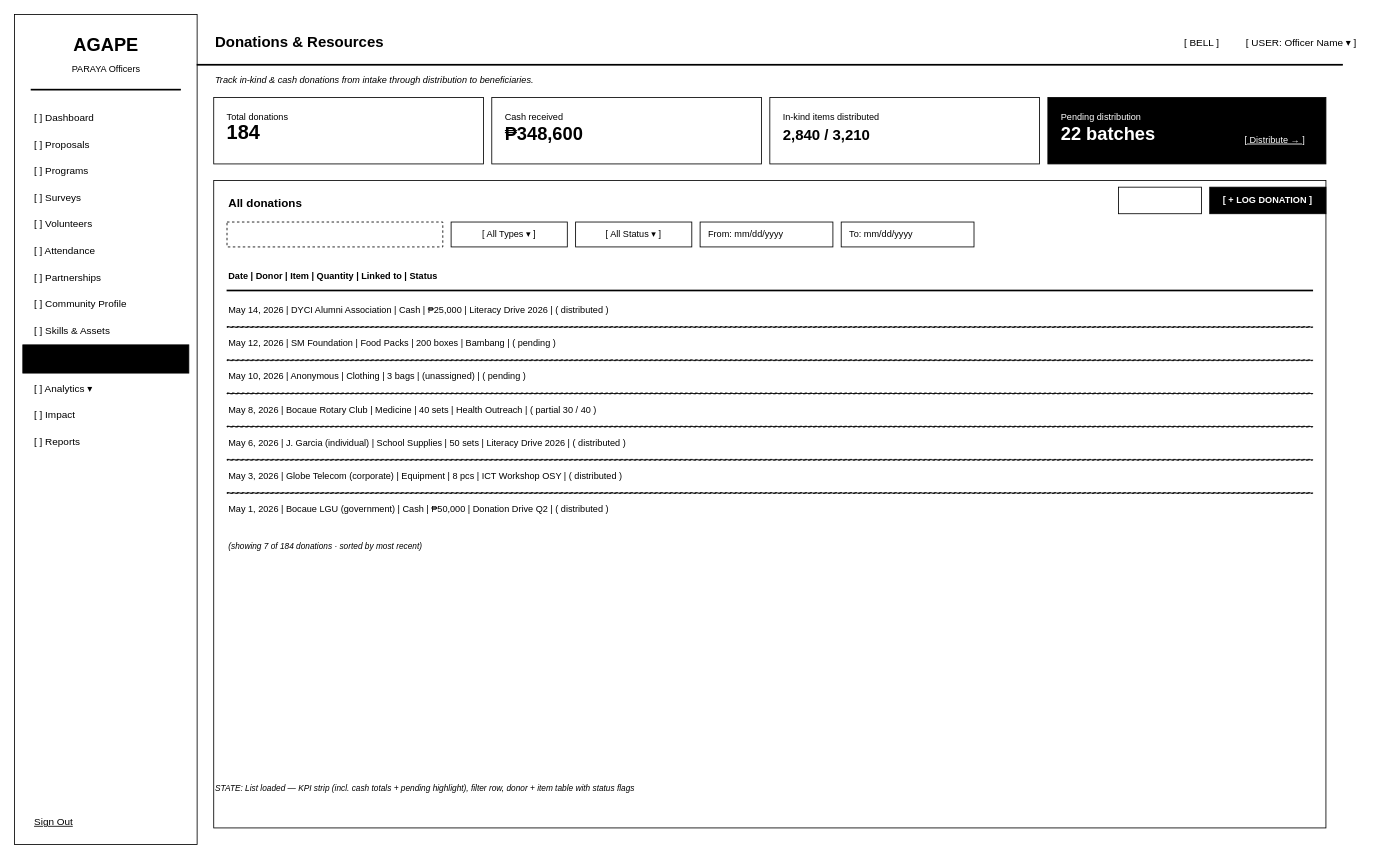
The diagram is 1390 pixels wide and 859 high, and some of its shapes have lost their labels. The shapes that lost their labels are listed below. From the top down, each one's box as (x1, y1, x2, y2) in pixels, then its label:
(1118, 186, 1201, 214): [ EXPORT ]
(226, 221, 443, 247): 🔍 Search donor or item…
(22, 344, 189, 373): [x] Donations
